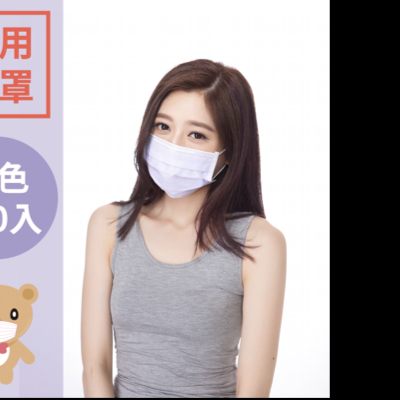with_mask: (143, 109, 227, 197)
